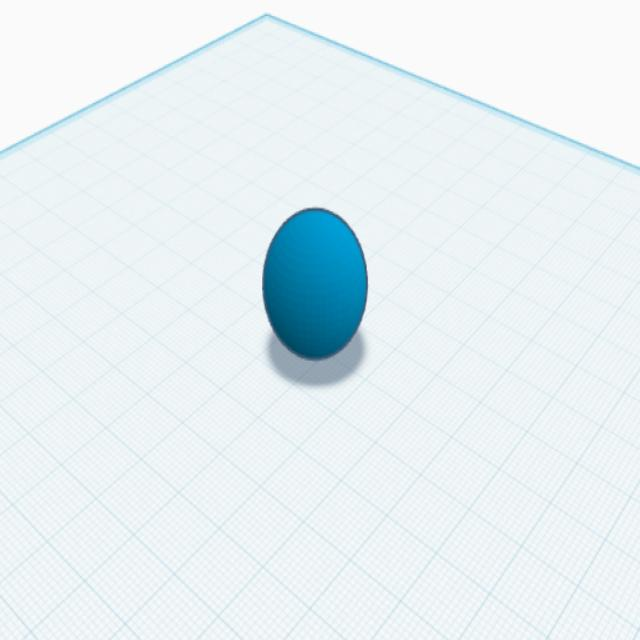sphere: (259, 200, 371, 364)
